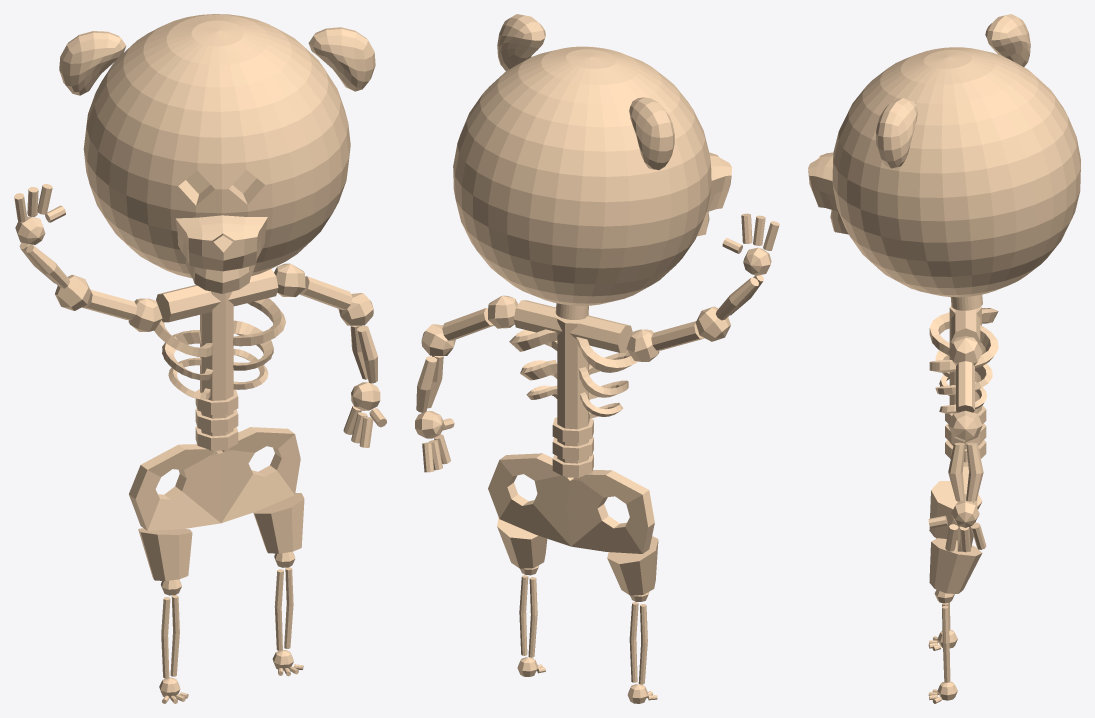
Rendered from PandaEsqueleto.glb.
The picture shows the model from 3 angles, left to right: view 1: azimuth 30°, elevation 25°; view 2: azimuth 150°, elevation 25°; view 3: azimuth 270°, elevation 25°; orthographic projection. The views are drawn at different scales.
Parts seen in each view (by area): view 1: Cilindro.001; view 2: Cilindro.001; view 3: Cilindro.001.
Part boxes in pixels (x1,y1,x2,y2): Cilindro.001: (14, 14, 386, 703); Cilindro.001: (415, 14, 779, 703); Cilindro.001: (808, 14, 1080, 703).
Bounding box in the file's own units: 0.4077 × 0.6917 × 0.279.
